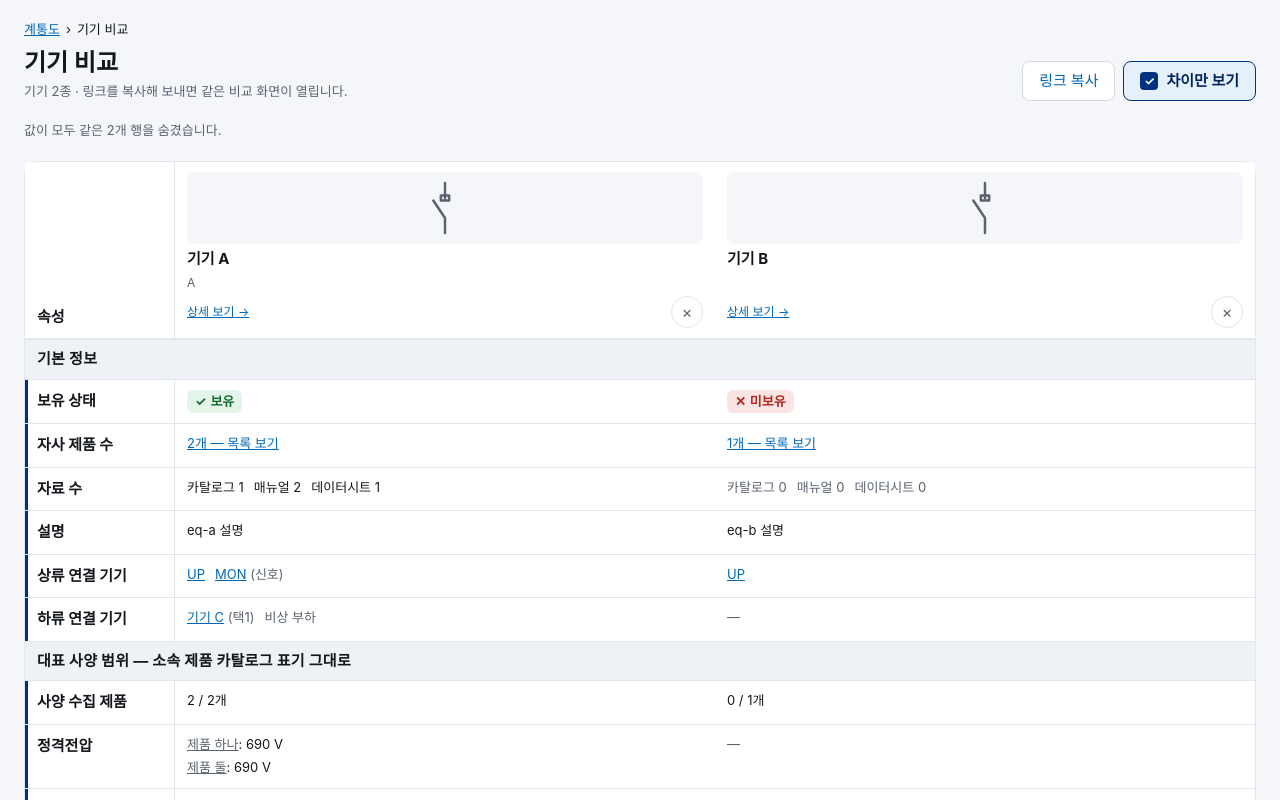
C6 링크 복사 + 차이만 보기 주소 저장 (UX 토론) › 링크 복사 성공 → clipboard 에 해시 주소, announce("링크를 복사했습니다")
Click the button with test id "compare-copy-link" at (1069, 81), box [1022,61,1115,101]
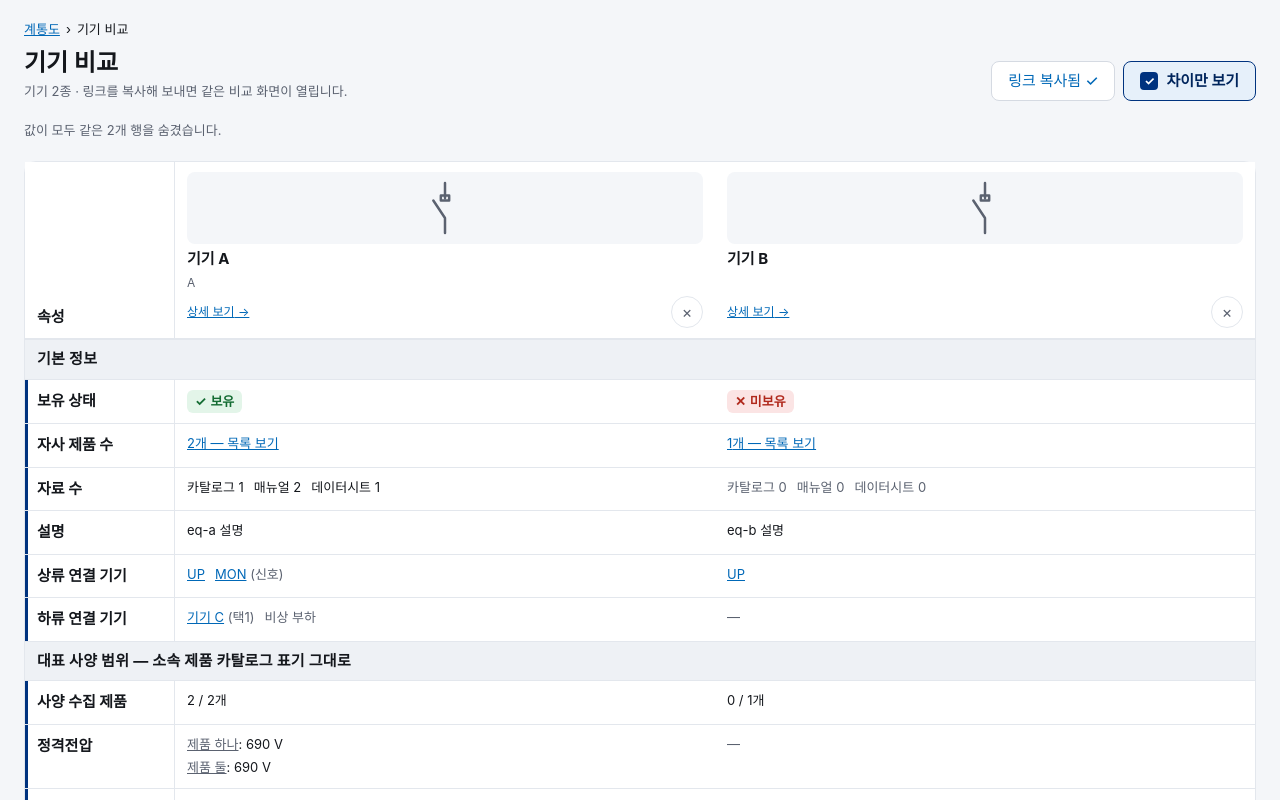
Expected: the button "링크 복사됨 ✓" is shown, [991,61,1116,101]
